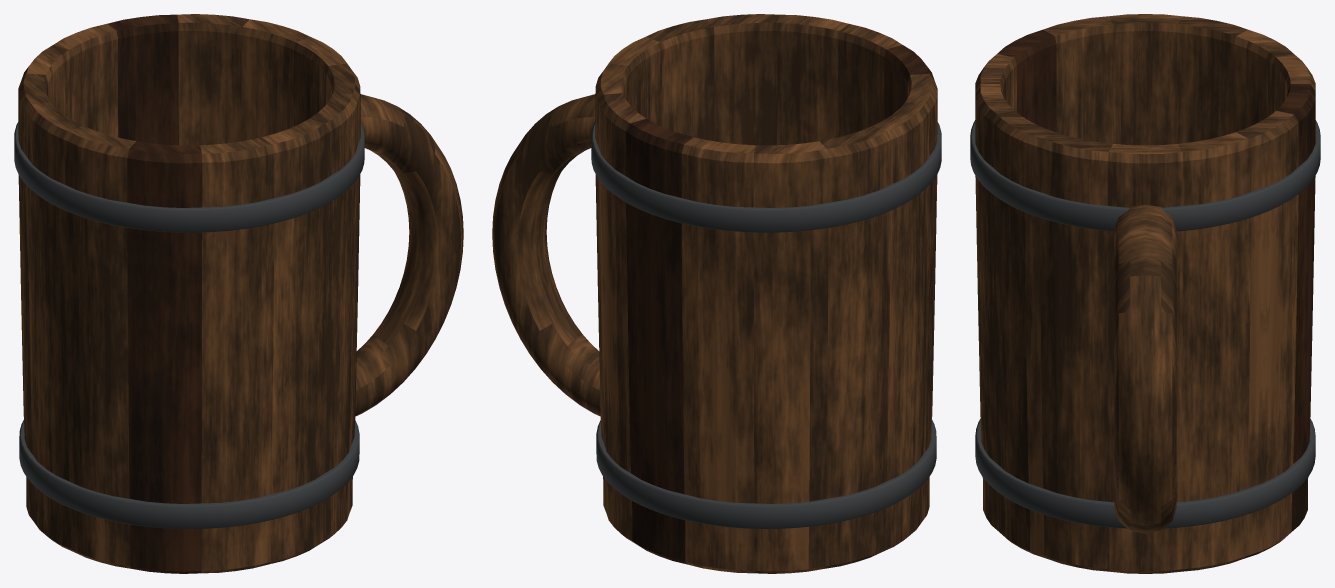
3 views of the same model, side by side, from view 1: azimuth 30°, elevation 25°; view 2: azimuth 150°, elevation 25°; view 3: azimuth 270°, elevation 25° (orthographic).
Visible parts, largest first — view 1: FT_017_oak_stave_09, FT_017_oak_stave_10, FT_017_oak_stave_08, FT_017_oak_stave_11, FT_017_curved_oak_handle, FT_017_oak_stave_07, FT_017_oak_stave_12, FT_017_upper_iron_band, FT_017_lower_iron_band, FT_017_oak_stave_02, FT_017_oak_stave_03, FT_017_oak_stave_01 (+5 smaller); view 2: FT_017_oak_stave_05, FT_017_oak_stave_04, FT_017_oak_stave_06, FT_017_oak_stave_03, FT_017_curved_oak_handle, FT_017_oak_stave_07, FT_017_oak_stave_02, FT_017_upper_iron_band, FT_017_lower_iron_band, FT_017_oak_stave_12, FT_017_oak_stave_11, FT_017_oak_stave_13 (+5 smaller); view 3: FT_017_oak_stave_01, FT_017_oak_stave_13, FT_017_curved_oak_handle, FT_017_oak_stave_02, FT_017_oak_stave_12, FT_017_oak_stave_00, FT_017_oak_stave_07, FT_017_upper_iron_band, FT_017_lower_iron_band, FT_017_oak_stave_06, FT_017_oak_stave_08, FT_017_oak_stave_03 (+5 smaller).
Part boxes in pixels (x1,y1,x2,y2): FT_017_oak_stave_09: [127, 141, 202, 573]; FT_017_oak_stave_10: [200, 137, 274, 573]; FT_017_oak_stave_08: [65, 126, 135, 568]; FT_017_oak_stave_11: [262, 118, 329, 564]; FT_017_curved_oak_handle: [355, 94, 463, 416]; FT_017_oak_stave_07: [27, 102, 82, 551]; FT_017_oak_stave_12: [310, 93, 357, 543]; FT_017_upper_iron_band: [14, 122, 364, 232]; FT_017_lower_iron_band: [19, 420, 359, 528]; FT_017_oak_stave_02: [177, 14, 248, 145]; FT_017_oak_stave_03: [107, 14, 178, 145]; FT_017_oak_stave_01: [241, 19, 309, 141]; FT_017_oak_stave_05: [753, 141, 828, 573]; FT_017_oak_stave_04: [681, 137, 755, 573]; FT_017_oak_stave_06: [820, 126, 890, 568]; FT_017_oak_stave_03: [626, 118, 693, 564]; FT_017_curved_oak_handle: [492, 94, 600, 416]; FT_017_oak_stave_07: [873, 102, 928, 551]; FT_017_oak_stave_02: [598, 93, 645, 543]; FT_017_upper_iron_band: [591, 122, 941, 232]; FT_017_lower_iron_band: [596, 420, 936, 528]; FT_017_oak_stave_12: [707, 14, 778, 145]; FT_017_oak_stave_11: [777, 14, 848, 145]; FT_017_oak_stave_13: [646, 19, 714, 141]; FT_017_oak_stave_01: [1178, 132, 1251, 571]; FT_017_oak_stave_13: [1039, 132, 1112, 571]; FT_017_curved_oak_handle: [1114, 204, 1176, 533]; FT_017_oak_stave_02: [1236, 111, 1298, 558]; FT_017_oak_stave_12: [992, 111, 1054, 558]; FT_017_oak_stave_00: [1107, 144, 1183, 573]; FT_017_oak_stave_07: [1109, 14, 1181, 145]; FT_017_upper_iron_band: [970, 120, 1320, 231]; FT_017_lower_iron_band: [975, 419, 1315, 528]; FT_017_oak_stave_06: [1177, 16, 1247, 143]; FT_017_oak_stave_08: [1043, 16, 1113, 143]; FT_017_oak_stave_03: [1276, 84, 1315, 531].
Size of the model in its own units: 0.1876 by 0.18 by 0.1352.
Materials: 4 (3 with a texture image).
